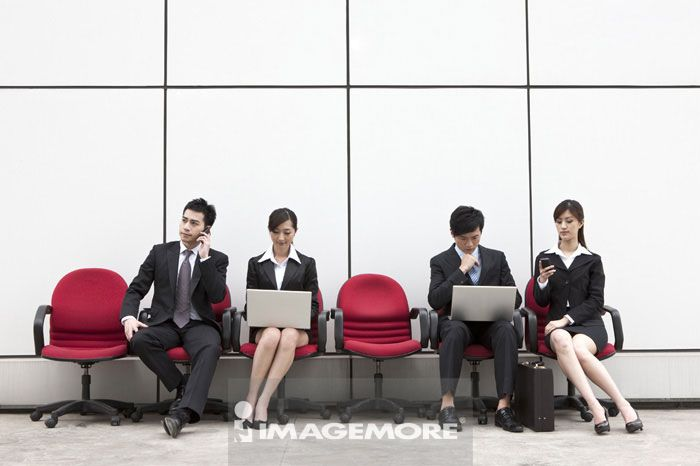talk: (180, 215, 211, 254)
